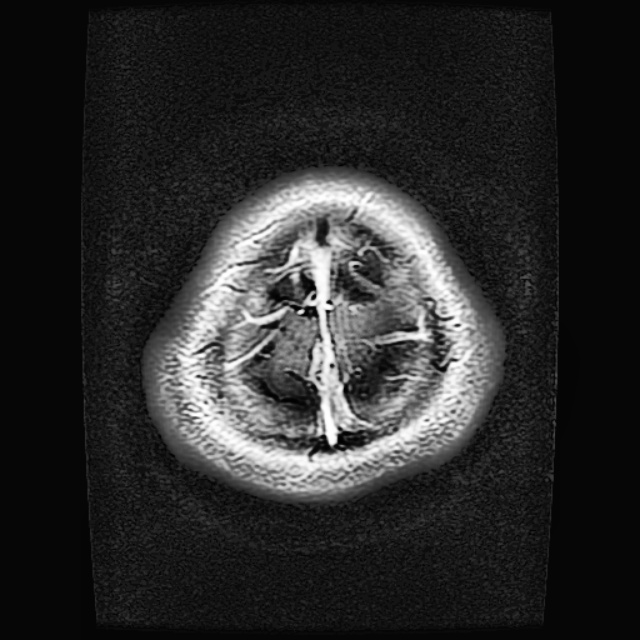Glioma: (267, 223, 392, 308)
